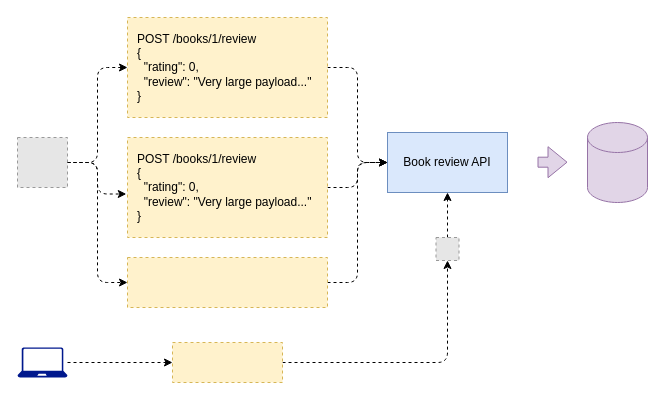
This 665x400 diagram has some shape labels left out. Grey dashed boxes stand in for pictures. The centre of each missing label's shape, as x and y in pixels:
"GET /books/1" goes at [227,362].
"POST /books/1/review {... }" goes at [227,282].
